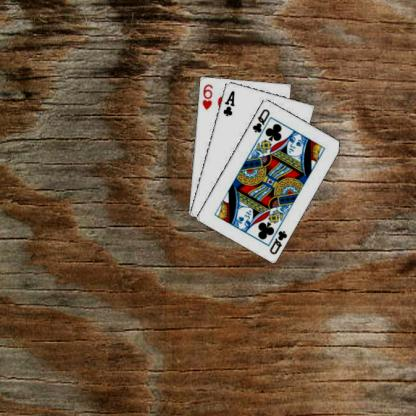6H: (200, 82, 214, 110)
AC: (220, 88, 236, 117)
QC: (249, 106, 271, 134), (267, 228, 288, 256)
